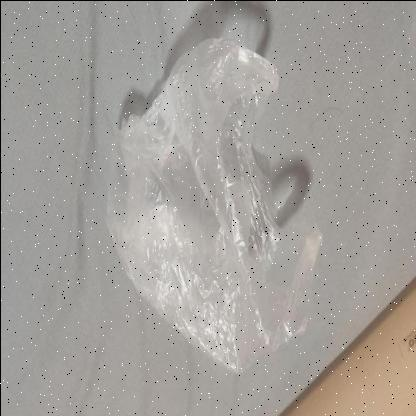Others: (105, 34, 325, 374)
